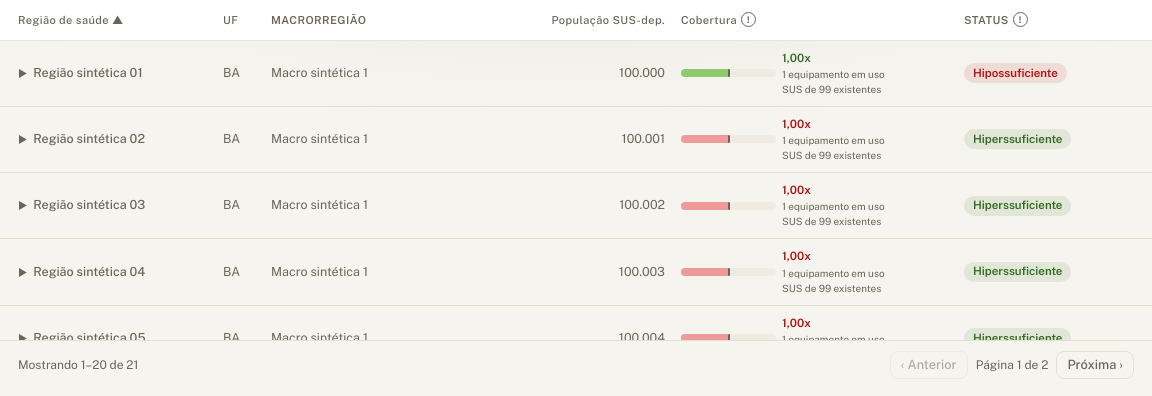
cobertura por região e município com consultas reais › ajusta a página quando uma atualização reduz o total do mesmo recorte
Click the button with aria-label "Próxima página" at [1095, 365], box [1056, 351, 1134, 379]
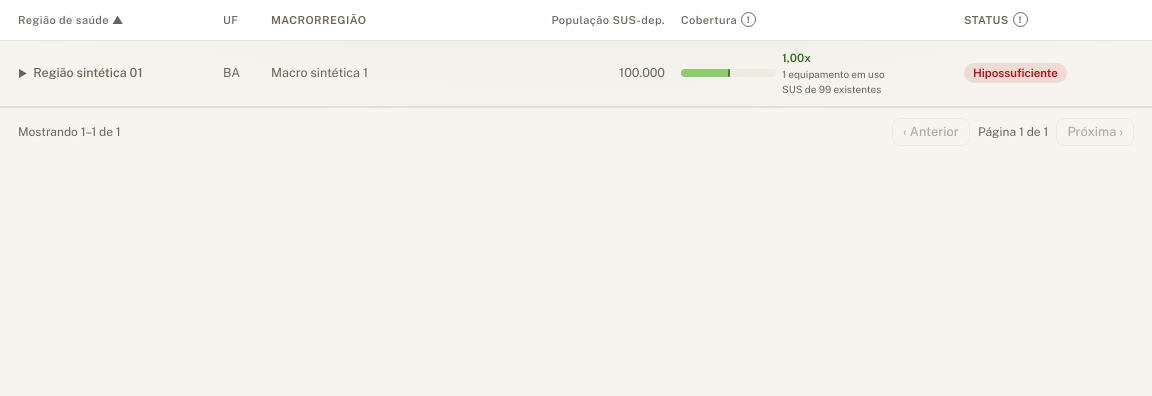
Now the text "Mostrando 1–1 de 1" is shown, box [18, 124, 121, 140]
Now the text "Região sintética 01" is shown 2 times
